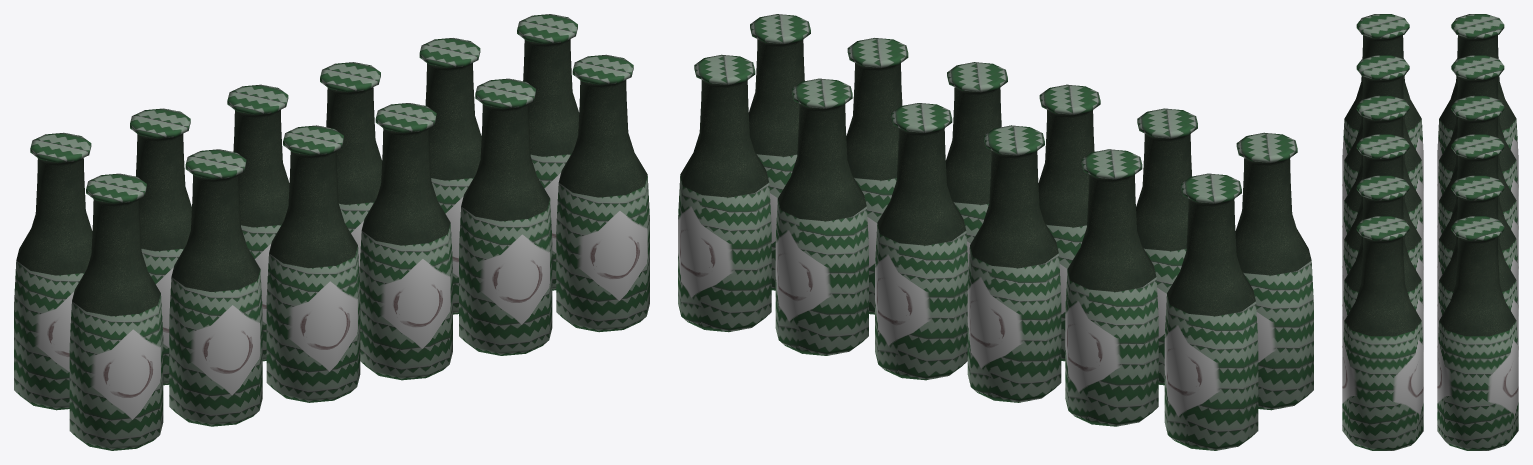
Rendered from beerBottle_Large.fbx.
3 views of the same model, side by side, from view 1: azimuth 30°, elevation 25°; view 2: azimuth 150°, elevation 25°; view 3: azimuth 270°, elevation 25° (orthographic). The views are drawn at different scales.
Parts seen in each view (by area): view 1: beerBottle; view 2: beerBottle; view 3: beerBottle.
Boxes of the visible parts, box(x1,y1,x2,y2) form: beerBottle: box(14, 14, 649, 450); beerBottle: box(678, 14, 1313, 450); beerBottle: box(1342, 14, 1518, 450).
Bounding box in the file's own units: 1366 × 573 × 433.
1 material, 1 textured.
